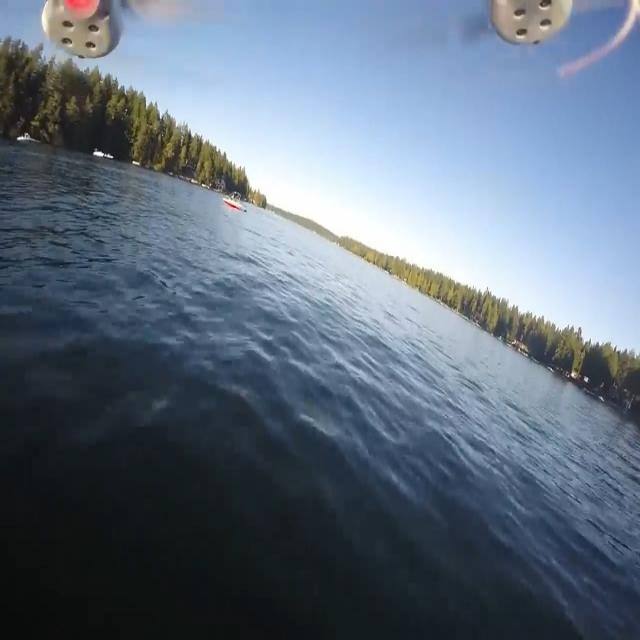Vehicle: (222, 193, 246, 214)
